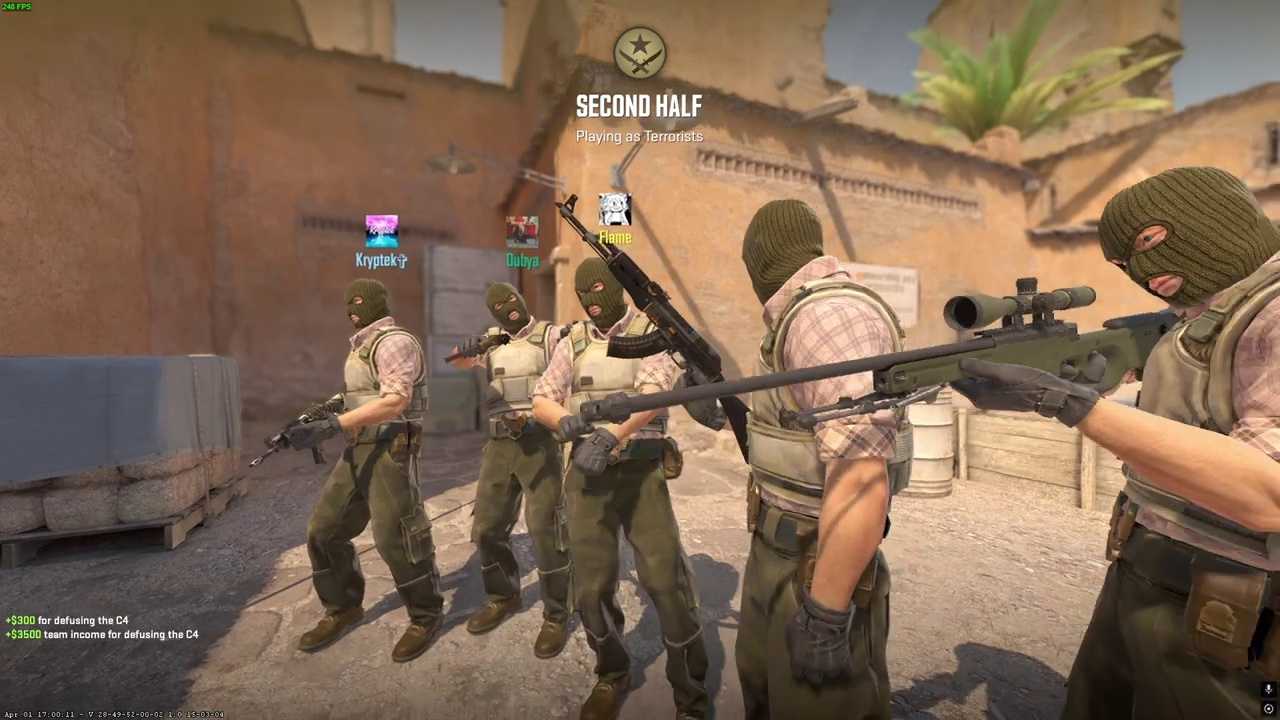Terrorist: (1051, 168, 1280, 719), (742, 197, 915, 720), (541, 255, 714, 720), (295, 276, 446, 655), (455, 279, 583, 657)
